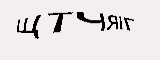І: (118, 12, 123, 31)
Г: (123, 11, 137, 34)
Т: (44, 9, 73, 35)
Ч: (74, 7, 106, 33)
Щ: (14, 12, 40, 41)
Я: (105, 9, 118, 31)
